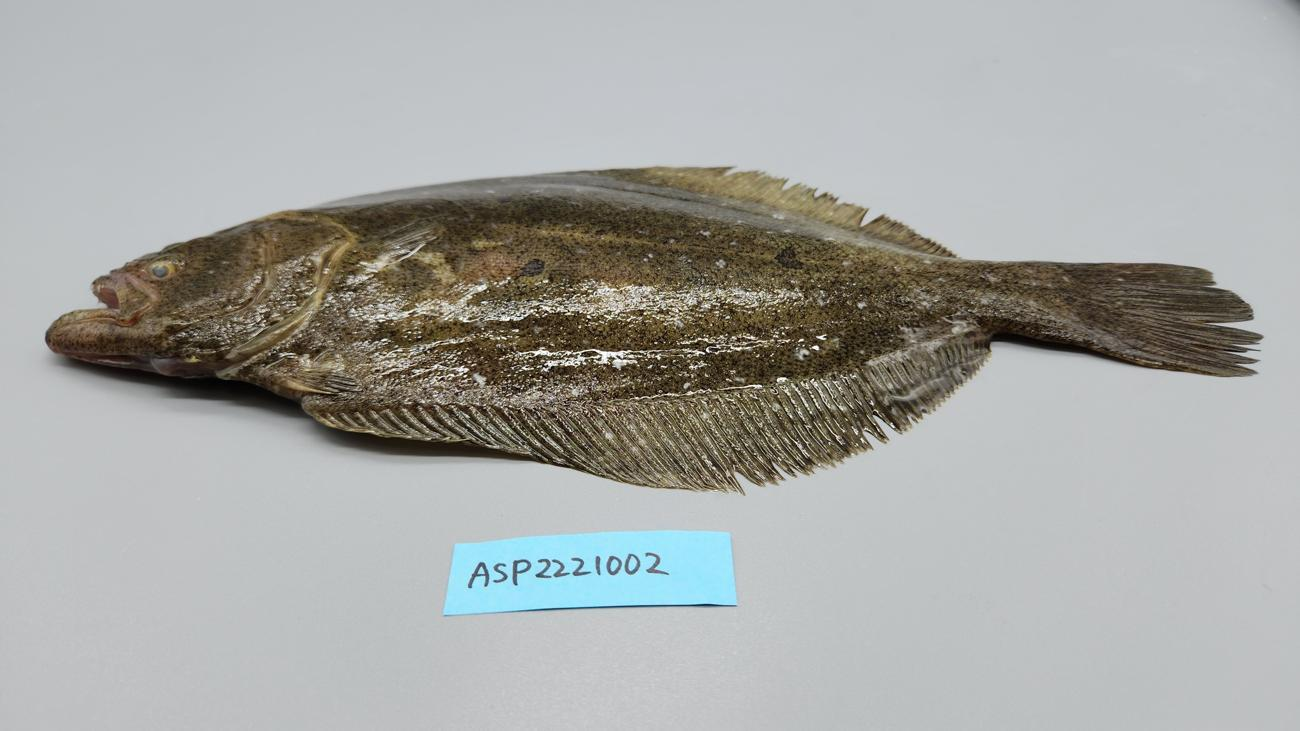SPDYH: (440, 342, 500, 383)
SPOUY: (37, 158, 1269, 500)
